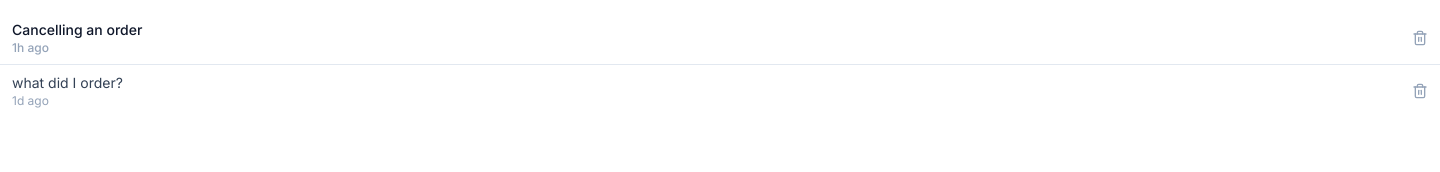
Test: ConversationList › arms only one row at a time
Click the button named "Delete what did I order?".
click(1420, 91)  # box [1404,75,1436,107]
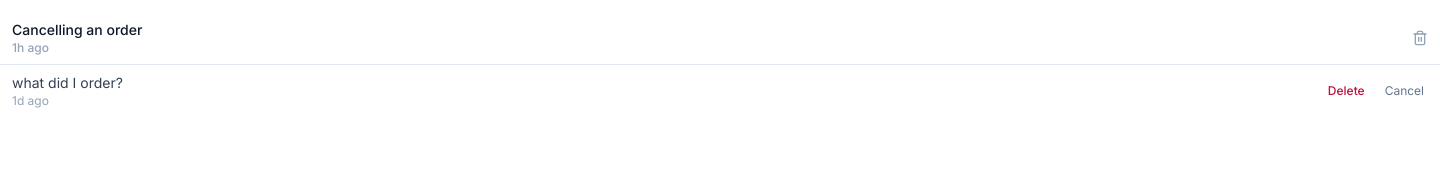
Click the button named "Delete Cancelling an order".
click(1420, 38)  # box [1404,22,1436,54]
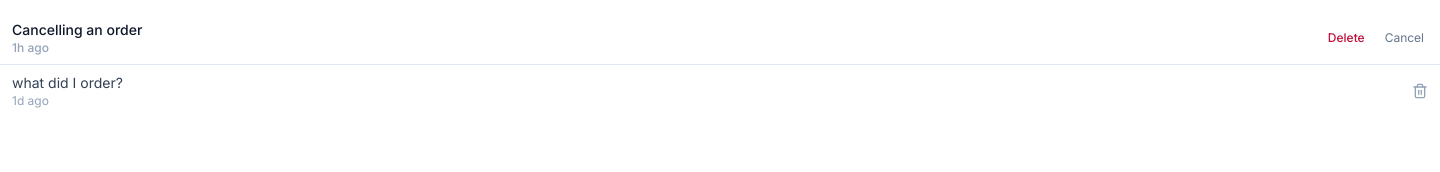
expect the button with aria-label "Confirm deleting Cancelling an order" is shown: met, box [1320,26,1373,50]
